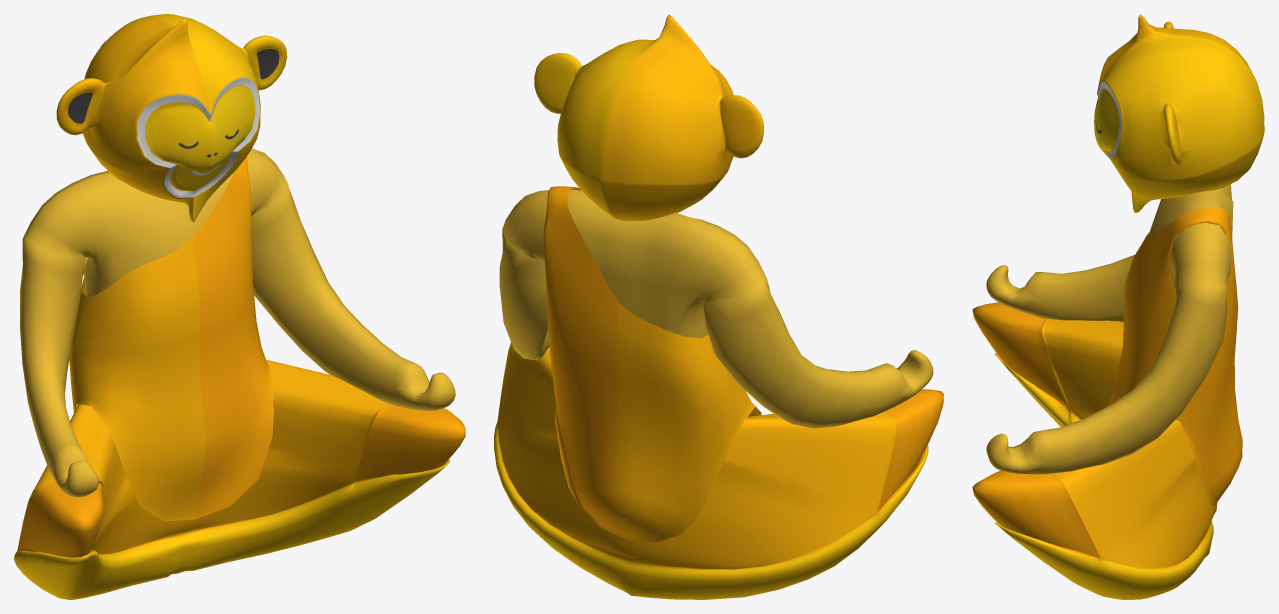
Rendered from Monkey Meditating.glb.
3 views of the same model, side by side, from view 1: azimuth 30°, elevation 25°; view 2: azimuth 150°, elevation 25°; view 3: azimuth 270°, elevation 25° (orthographic). The views are drawn at different scales.
Parts seen in each view (by area): view 1: polySurface6.002_Mesh.006, Dress_Mesh.001, Body_Mesh.002, Face_Mesh.004; view 2: polySurface6.002_Mesh.006, Dress_Mesh.001, Body_Mesh.002, Face_Mesh.004; view 3: polySurface6.002_Mesh.006, Body_Mesh.002, Face_Mesh.004, Dress_Mesh.001.
Part boxes in pixels (x1=…): polySurface6.002_Mesh.006: x1=14, y1=359, x2=465, y2=599; Dress_Mesh.001: x1=69, y1=157, x2=273, y2=521; Body_Mesh.002: x1=20, y1=148, x2=455, y2=497; Face_Mesh.004: x1=56, y1=14, x2=287, y2=222; polySurface6.002_Mesh.006: x1=494, y1=342, x2=943, y2=599; Dress_Mesh.001: x1=543, y1=186, x2=761, y2=542; Body_Mesh.002: x1=499, y1=189, x2=933, y2=428; Face_Mesh.004: x1=534, y1=14, x2=763, y2=220; polySurface6.002_Mesh.006: x1=972, y1=302, x2=1217, y2=599; Body_Mesh.002: x1=986, y1=184, x2=1233, y2=474; Face_Mesh.004: x1=1094, y1=14, x2=1264, y2=212; Dress_Mesh.001: x1=1109, y1=207, x2=1242, y2=506.
Size of the model in its own units: 1.81 by 2.45 by 1.18.
13 materials, 1 textured.
